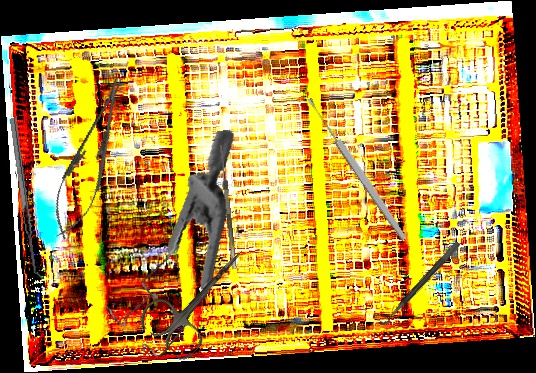Fixation Ring: (371, 234, 462, 329)
Hook Surgical: (212, 137, 237, 271)
Iris Scissors: (135, 229, 267, 365)
Needle Holder: (42, 69, 139, 246)
Spatula Surgical: (9, 116, 46, 281)
Speculum: (81, 128, 268, 364)
Surgical Spoon: (305, 95, 409, 243)
